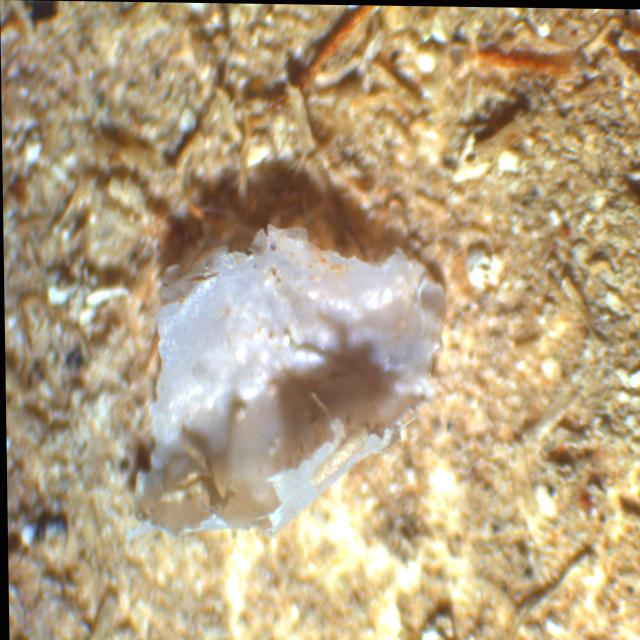microplastic: (121, 209, 457, 571)
